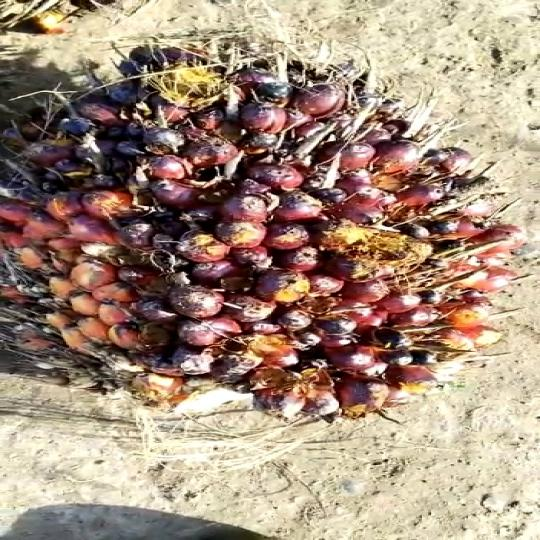masak: (0, 46, 540, 424)
